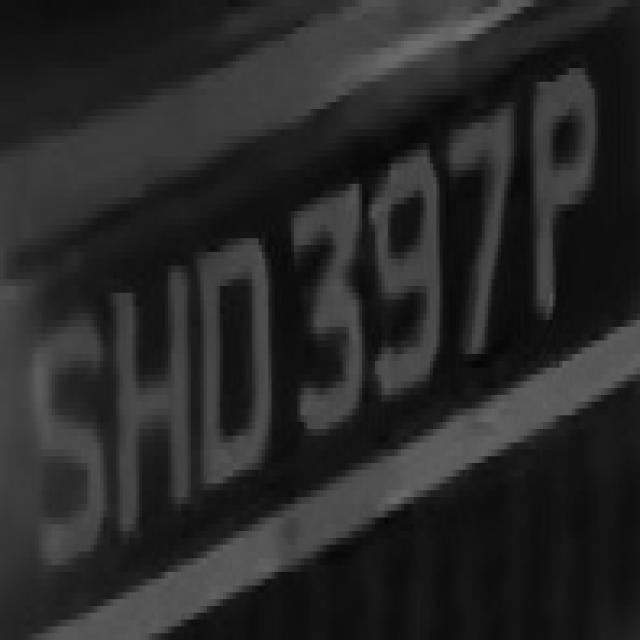3: (288, 170, 365, 470)
7: (436, 109, 514, 381)
9: (368, 143, 443, 443)
D: (197, 205, 278, 524)
H: (107, 245, 197, 552)
P: (524, 62, 604, 340)
S: (7, 286, 104, 606)
